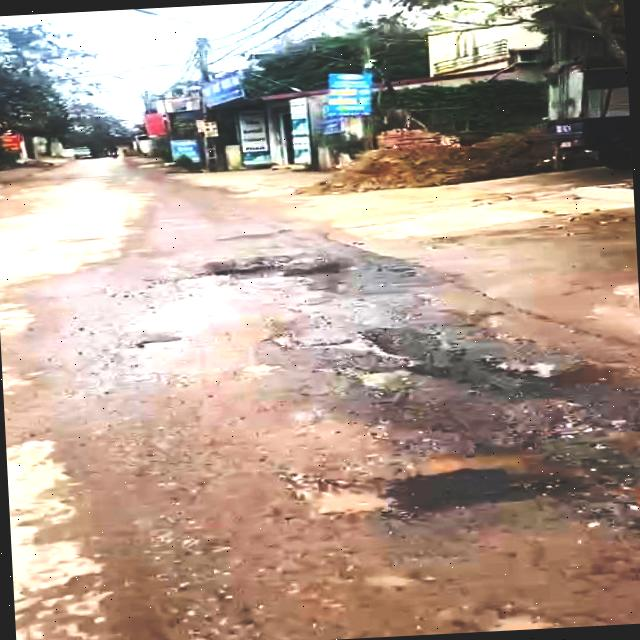pothole: (297, 431, 640, 546), (482, 344, 640, 451), (300, 322, 454, 417), (184, 250, 362, 306), (126, 334, 190, 356)
